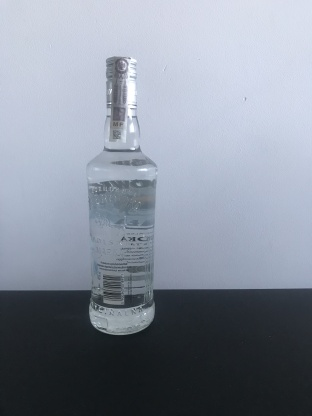nakretka: (102, 51, 139, 112)
